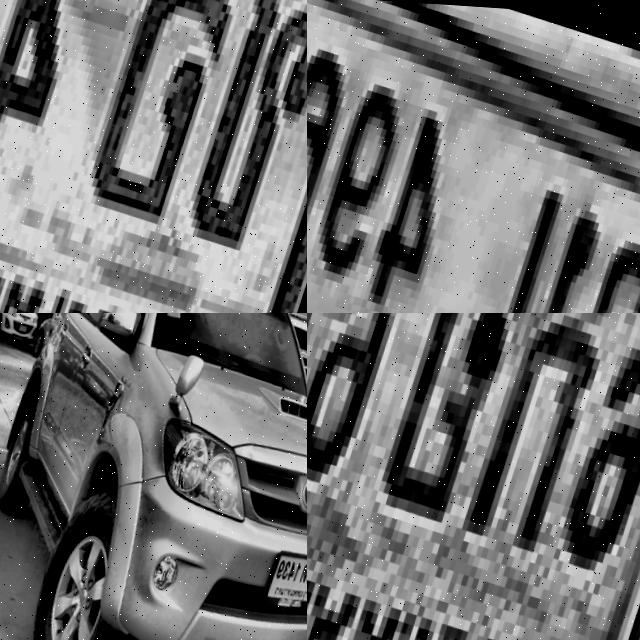license-plate: (307, 313, 640, 640), (307, 0, 640, 313), (0, 0, 307, 313), (267, 534, 307, 610)
